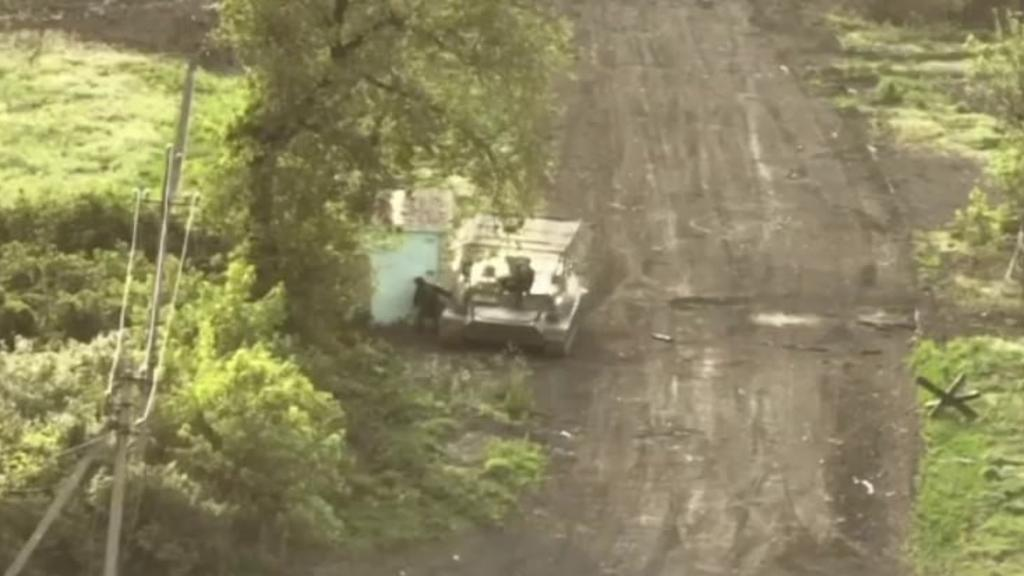APC-IFV: (428, 216, 582, 360)
